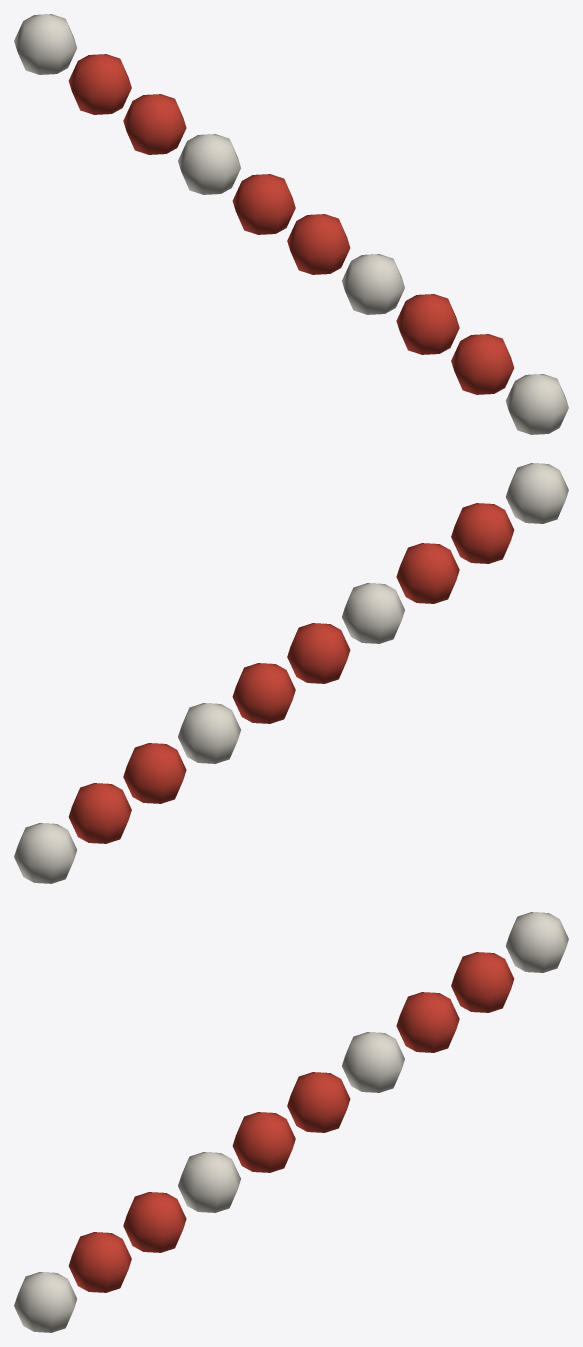
The model's file is lane_float.glb.
3 renders of one model, top to bottom at view 1: azimuth 30°, elevation 25°; view 2: azimuth 150°, elevation 25°; view 3: azimuth 330°, elevation 25°, orthographic.
Visible parts, largest first — view 1: lane_float; view 2: lane_float; view 3: lane_float.
Part boxes in pixels (x1,y1,x2,y2): lane_float: (14, 14, 568, 434); lane_float: (14, 463, 568, 883); lane_float: (14, 912, 568, 1332).
Bounding box in the file's own units: 0.12 × 0.12 × 1.92.
